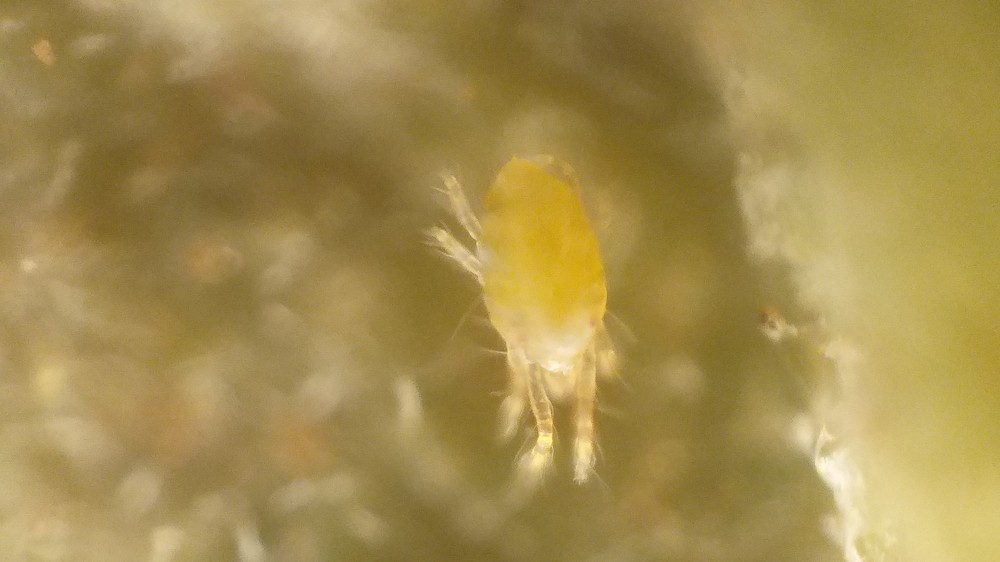Aracnido Rojo: (397, 129, 673, 521)
